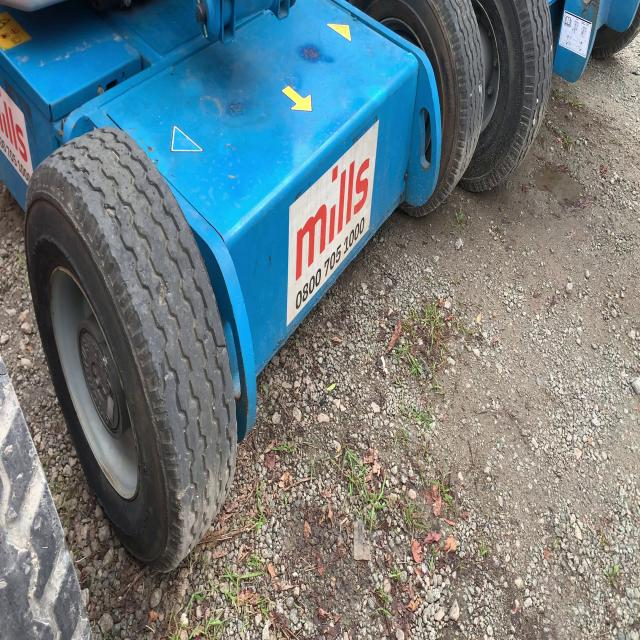Adesivos: (286, 115, 380, 332)
